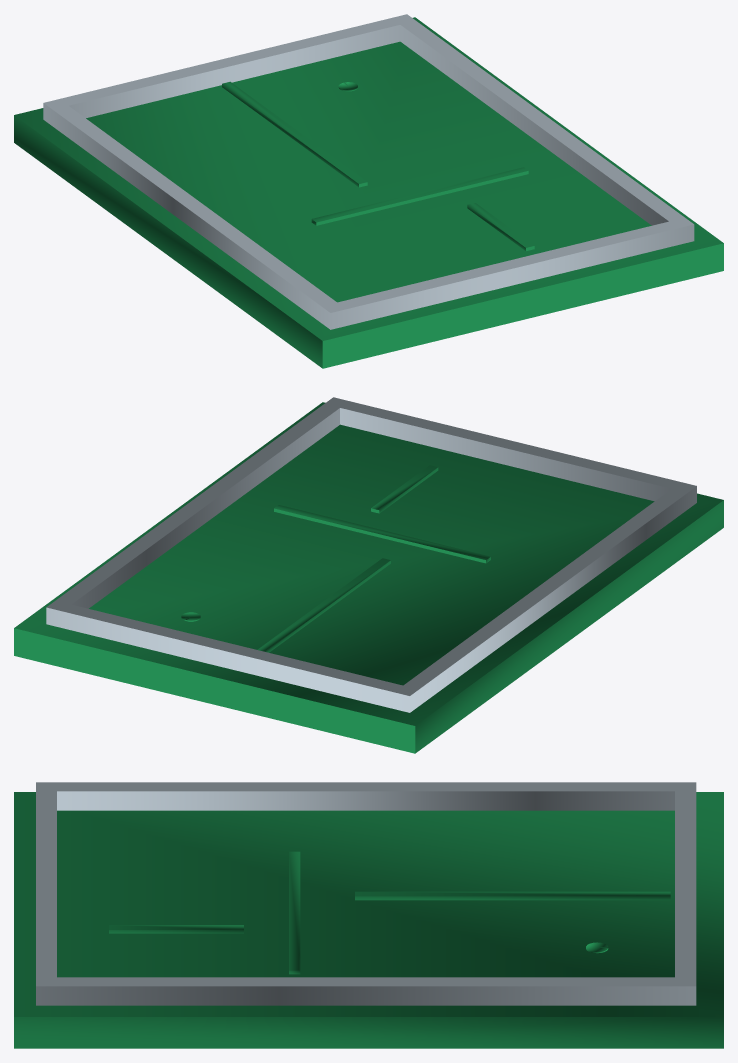
The model's file is board4.fbx.
The picture shows the model from 3 angles, top to bottom: view 1: azimuth 30°, elevation 25°; view 2: azimuth 150°, elevation 25°; view 3: azimuth 270°, elevation 25°; orthographic projection. The views are drawn at different scales.
Visible parts, largest first — view 1: Box002, Rectangle0; view 2: Box002, Rectangle0; view 3: Box002, Rectangle0.
Part boxes in pixels (x1,y1,x2,y2): Box002: [14, 17, 723, 368]; Rectangle0: [43, 14, 694, 329]; Box002: [14, 402, 723, 753]; Rectangle0: [46, 397, 696, 712]; Box002: [14, 792, 723, 1048]; Rectangle0: [36, 782, 696, 1005].
Bounding box in the file's own units: 135 × 14.36 × 181.
